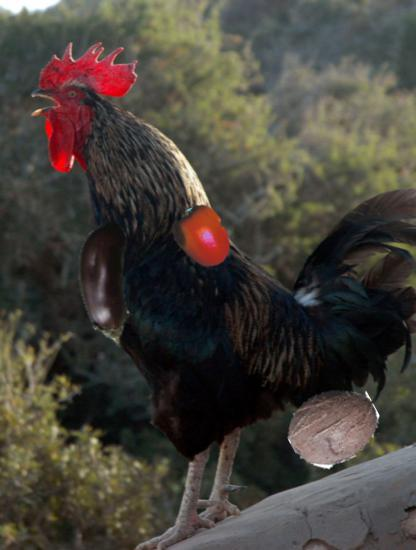Cocos: (288, 382, 380, 474)
Eggplant: (41, 221, 168, 348)
Kaki: (170, 206, 235, 271)
